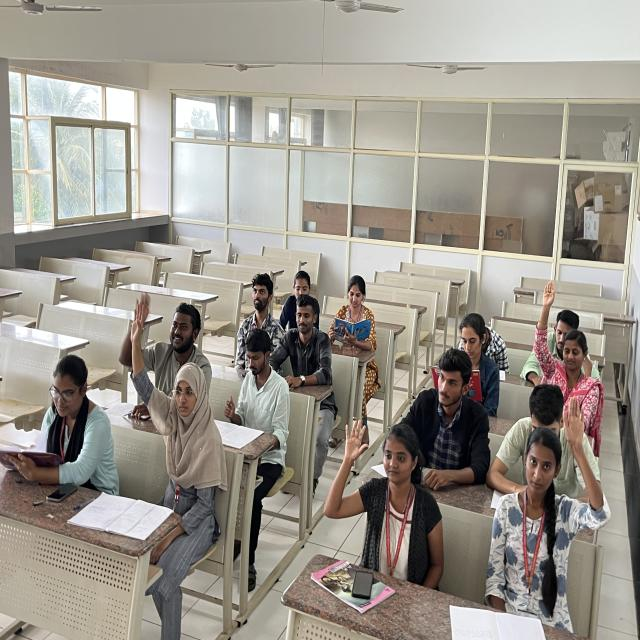Hand Rising: (483, 386, 612, 573), (110, 245, 214, 409), (322, 418, 438, 556), (126, 329, 225, 475), (535, 283, 604, 407)
Reading: (0, 354, 110, 500), (211, 321, 290, 458), (430, 311, 506, 433), (326, 278, 374, 350)
